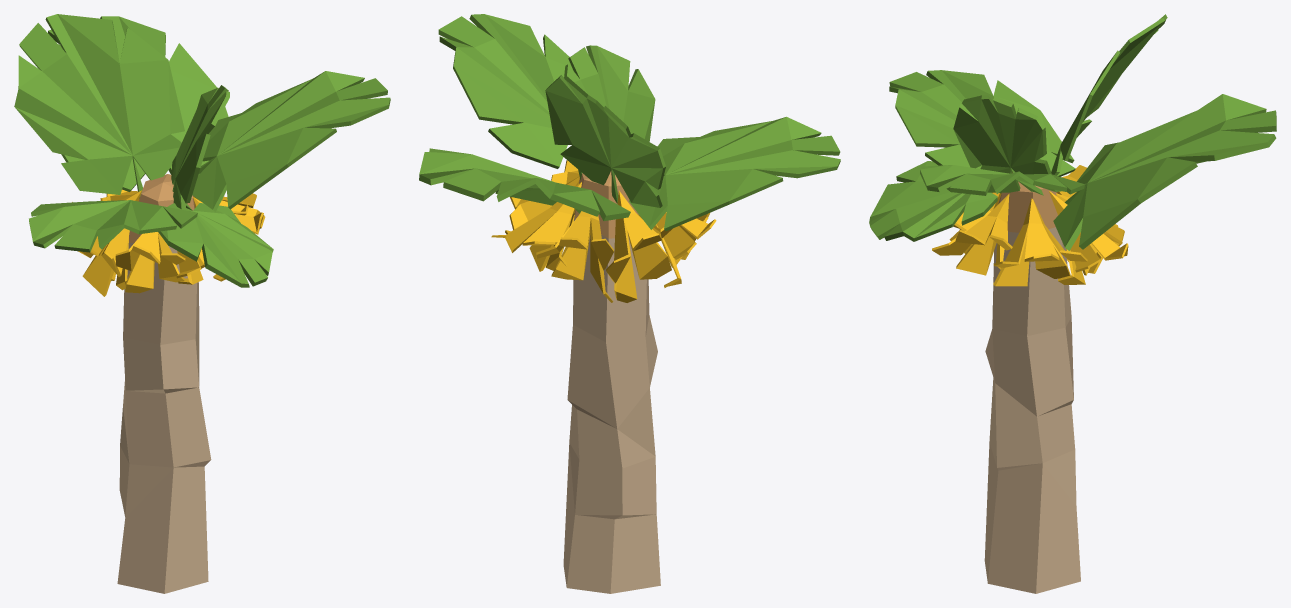
File: nature-palm-flower-prehistoric-big.glb
3 renders of one model, left to right at view 1: azimuth 30°, elevation 25°; view 2: azimuth 150°, elevation 25°; view 3: azimuth 270°, elevation 25°, orthographic. The views are drawn at different scales.
Parts seen in each view (by area): view 1: SM_Palm_Flower_Prehistoric_Big; view 2: SM_Palm_Flower_Prehistoric_Big; view 3: SM_Palm_Flower_Prehistoric_Big.
Boxes of the visible parts, left/top/right/bottom form: SM_Palm_Flower_Prehistoric_Big: left=14, top=14, right=390, bottom=593; SM_Palm_Flower_Prehistoric_Big: left=419, top=14, right=840, bottom=593; SM_Palm_Flower_Prehistoric_Big: left=869, top=14, right=1276, bottom=593.
Size of the model in its own units: 6.97 by 9.53 by 6.59.
